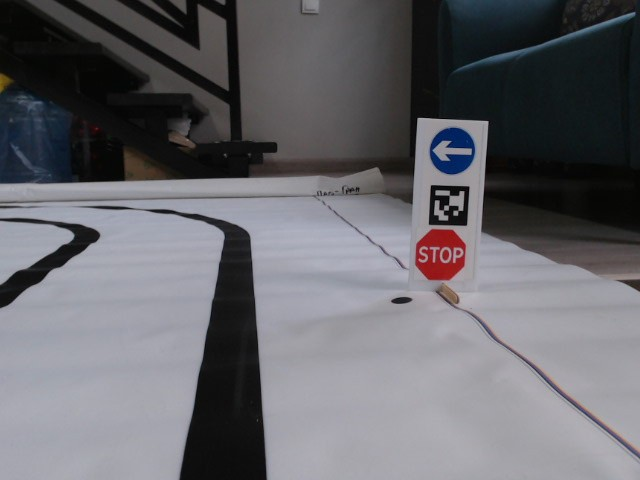Stop: (415, 225, 466, 281)
